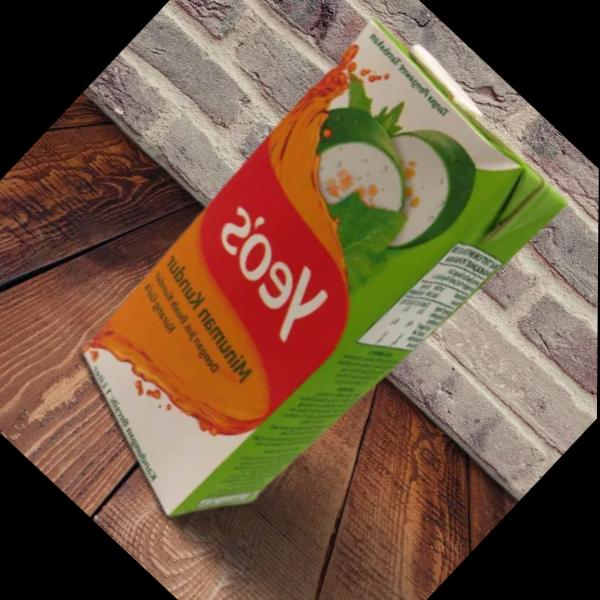cardboard: (0, 0, 597, 599)
